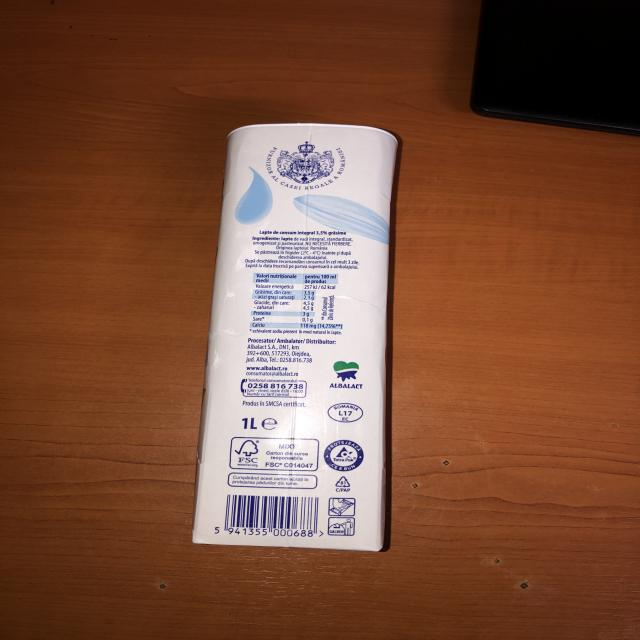milk: (190, 120, 402, 552)
